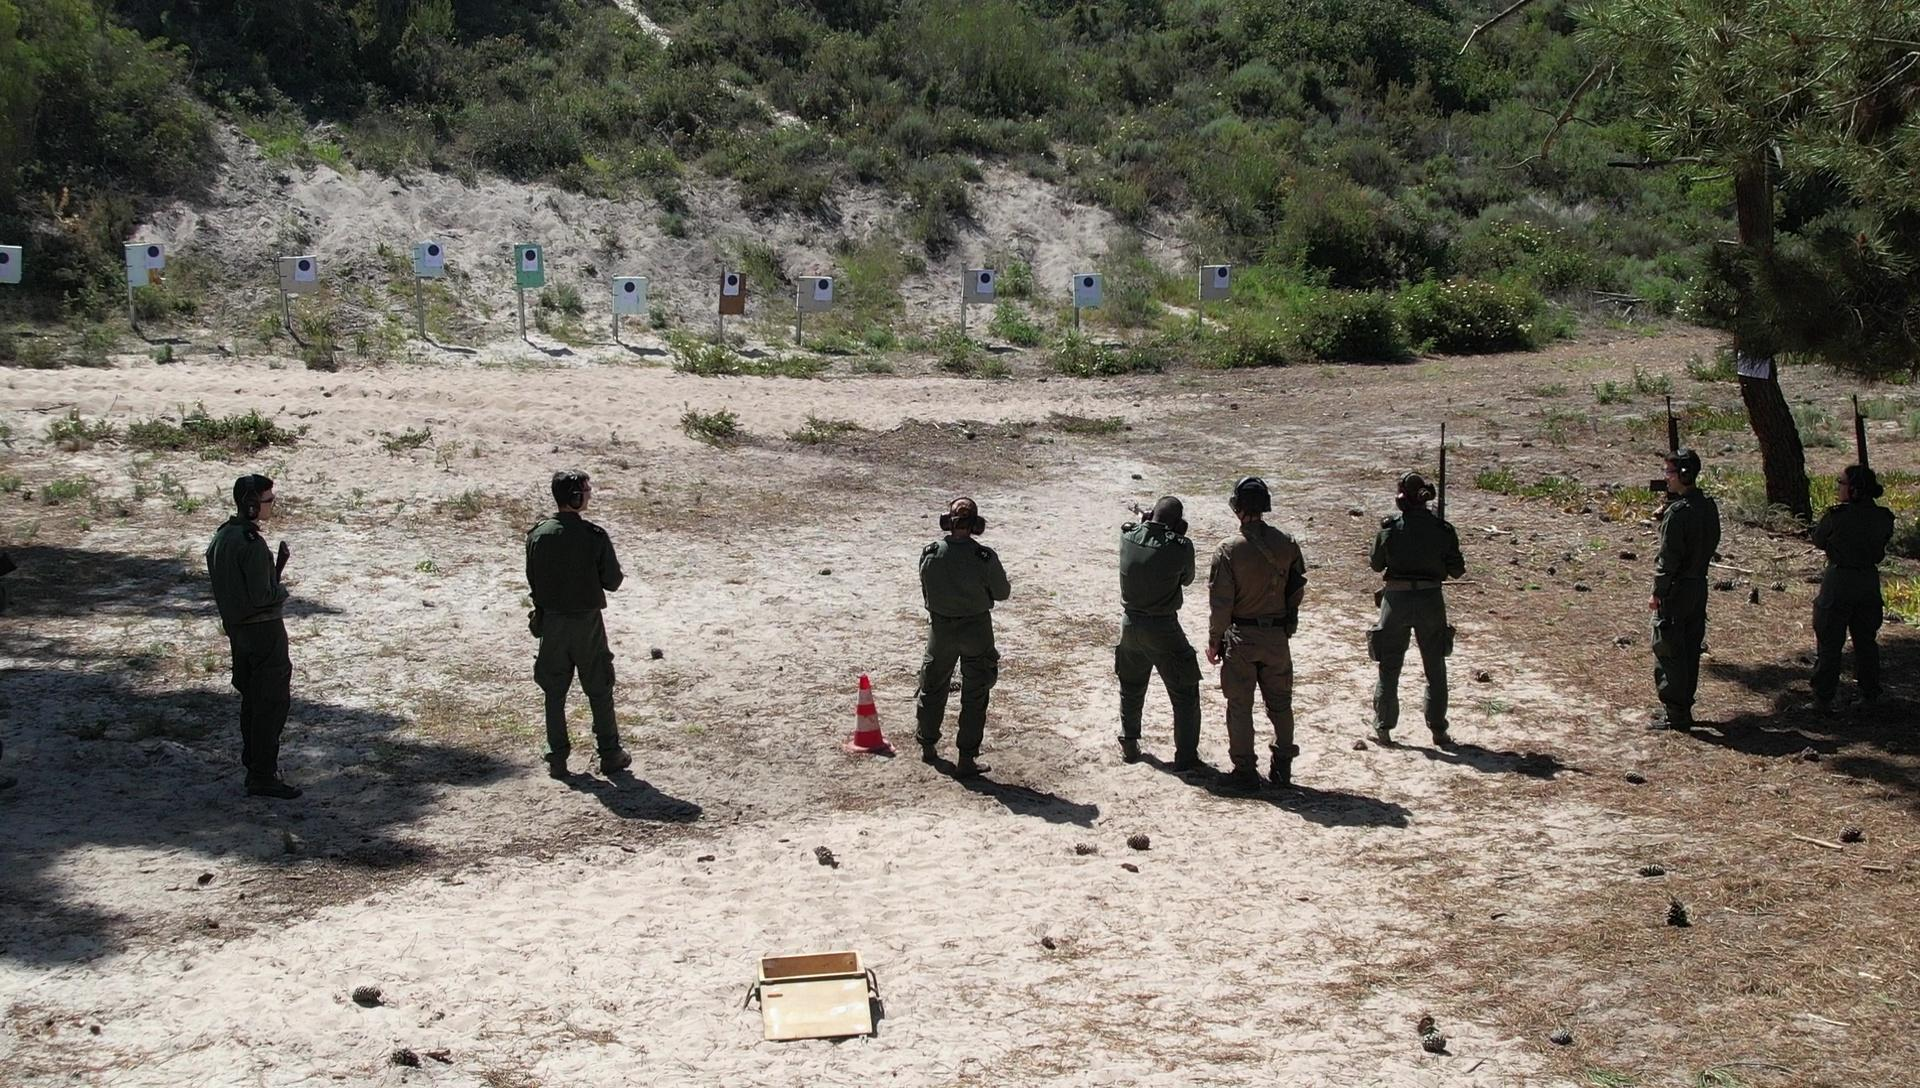Soldier: (483, 452, 642, 802), (190, 452, 314, 818), (1609, 363, 1724, 746), (1789, 375, 1898, 749), (1087, 481, 1216, 791), (1365, 413, 1464, 789), (1193, 467, 1303, 801), (895, 475, 1004, 789)
